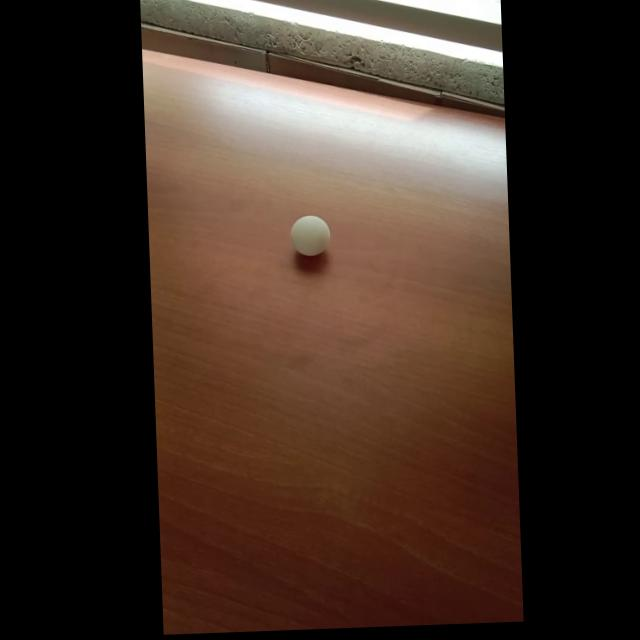white ball: (289, 213, 331, 257)
